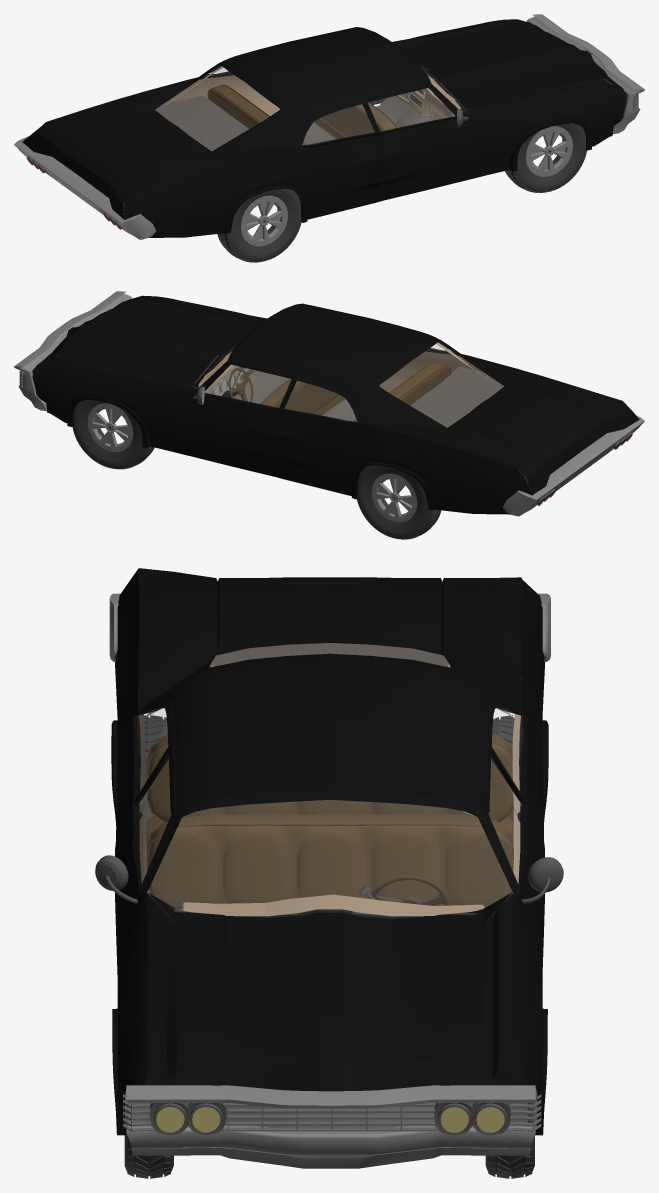
Rendered from Impala67.fbx.
The picture shows the model from 3 angles, top to bottom: view 1: azimuth 30°, elevation 25°; view 2: azimuth 150°, elevation 25°; view 3: azimuth 270°, elevation 25°; orthographic projection. The views are drawn at different scales.
Parts seen in each view (by area): view 1: MainCarBase, CarTrunk, CarHood, Bottom, Tire3, RearBumper, PassengerWindow, Tire1, Bumper, BackWindow1, TireRim3, TireRim1 (+4 smaller); view 2: MainCarBase, CarTrunk, CarHood, Bottom, Tire4, RearBumper, Tire2, DriverWindow, Bumper, BackWindow2, TireRim4, TopSeat1 (+5 smaller); view 3: MainCarBase, CarHood, WindShield, CarTrunk, TopSeat1, Bumper, TopSeat2, Grille1, DashBoard, Bottom, HeadLight2, HeadLight1 (+11 smaller).
Boxes of the visible parts, x1,y1,x2,y2 form: MainCarBase: (22,19,627,237); CarTrunk: (22,77,295,219); CarHood: (402,23,617,111); Bottom: (155,95,432,151); Tire3: (217,188,301,262); RearBumper: (14,136,155,239); PassengerWindow: (368,88,454,130); Tire1: (505,123,586,192); Bumper: (526,14,644,133); BackWindow1: (302,104,374,144); TireRim3: (240,195,288,246); TireRim1: (525,126,573,176); MainCarBase: (32,295,532,514); CarTrunk: (363,354,639,494); CarHood: (42,299,256,388); Bottom: (233,366,503,427); Tire4: (357,465,441,539); RearBumper: (503,415,644,516); Tire2: (72,399,154,469); DriverWindow: (205,365,290,407); Bumper: (14,291,132,410); BackWindow2: (284,381,356,421); TireRim4: (371,473,417,522); TopSeat1: (261,378,339,413); MainCarBase: (111,568,548,1142); CarHood: (147,892,512,1091); WindShield: (148,800,511,916); CarTrunk: (138,568,521,712); TopSeat1: (146,814,513,908); Bumper: (125,1085,537,1168); TopSeat2: (146,733,513,821); Grille1: (221,1103,439,1131); DashBoard: (182,894,484,916); Bottom: (142,643,513,895); HeadLight2: (434,1103,510,1135); HeadLight1: (150,1103,226,1134).
Size of the model in its own units: 34.43 by 8.67 by 13.14.
